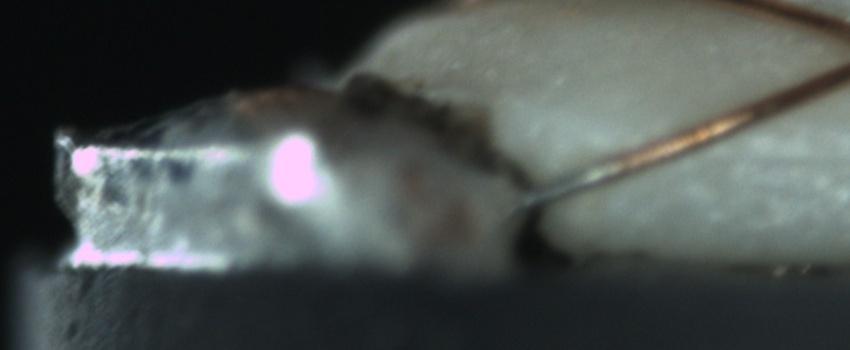DL: (690, 121, 850, 189)
TS: (523, 160, 623, 207)
